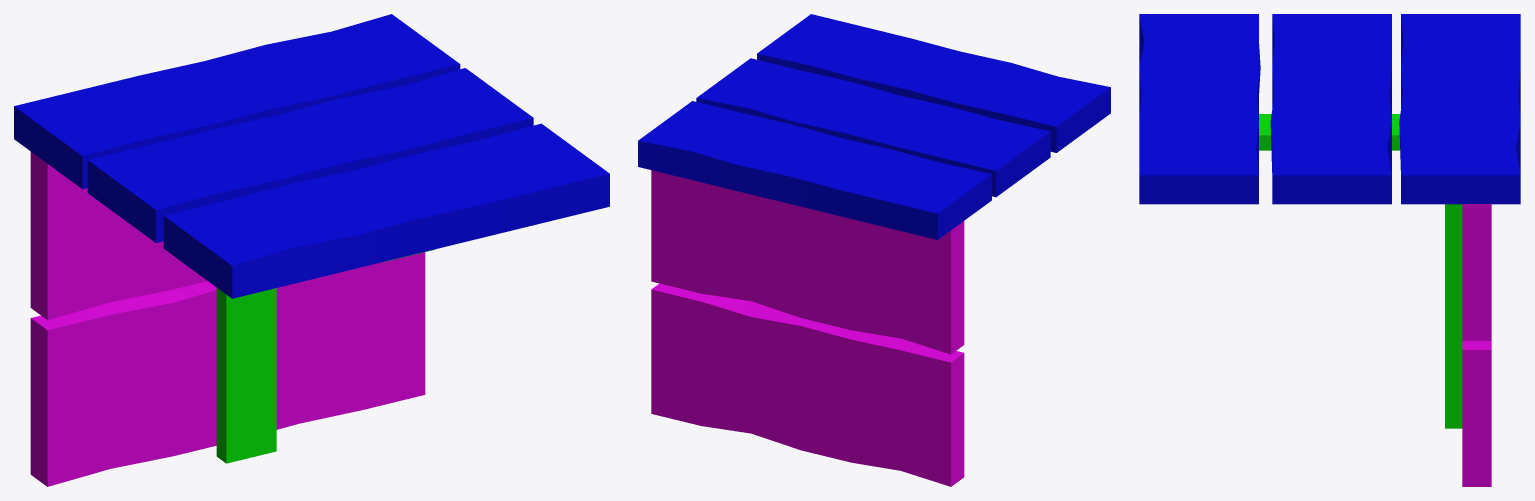
File: KCounterM.fbx
The picture shows the model from 3 angles, left to right: view 1: azimuth 30°, elevation 25°; view 2: azimuth 150°, elevation 25°; view 3: azimuth 270°, elevation 25°; orthographic projection. The views are drawn at different scales.
Visible parts, largest first — view 1: CounterM_LP_group5_pCube74; view 2: CounterM_LP_group5_pCube74; view 3: CounterM_LP_group5_pCube74.
Part boxes in pixels (box(x1,y1,x2,y2)): CounterM_LP_group5_pCube74: box(14, 14, 609, 486); CounterM_LP_group5_pCube74: box(638, 14, 1110, 486); CounterM_LP_group5_pCube74: box(1139, 14, 1520, 486).
Size of the model in its own units: 2 by 1.86 by 2.
